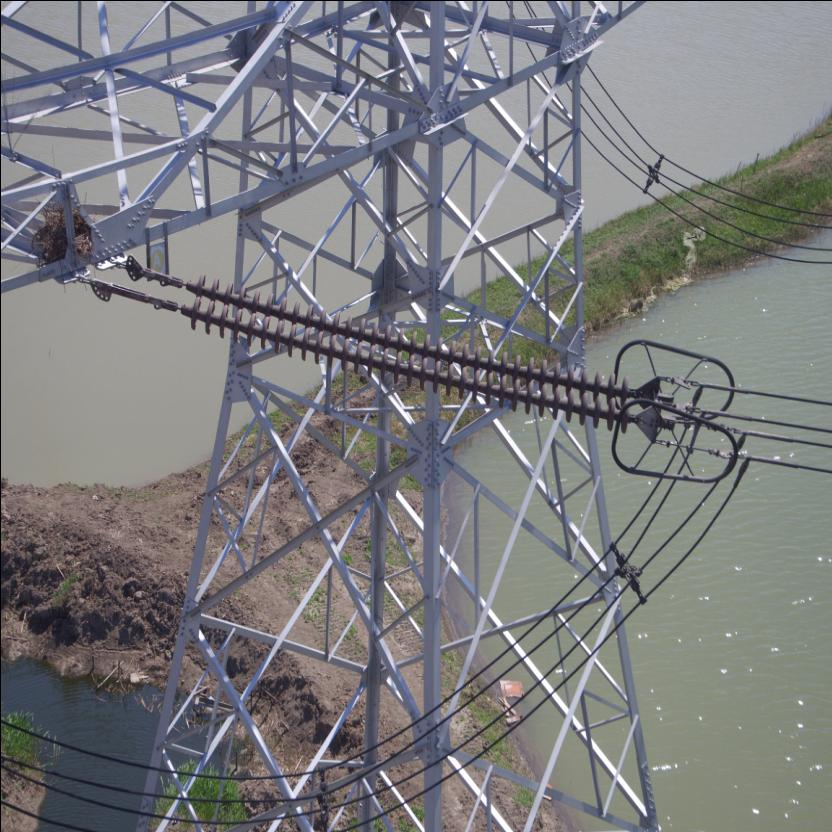insulator: (162, 264, 645, 436)
